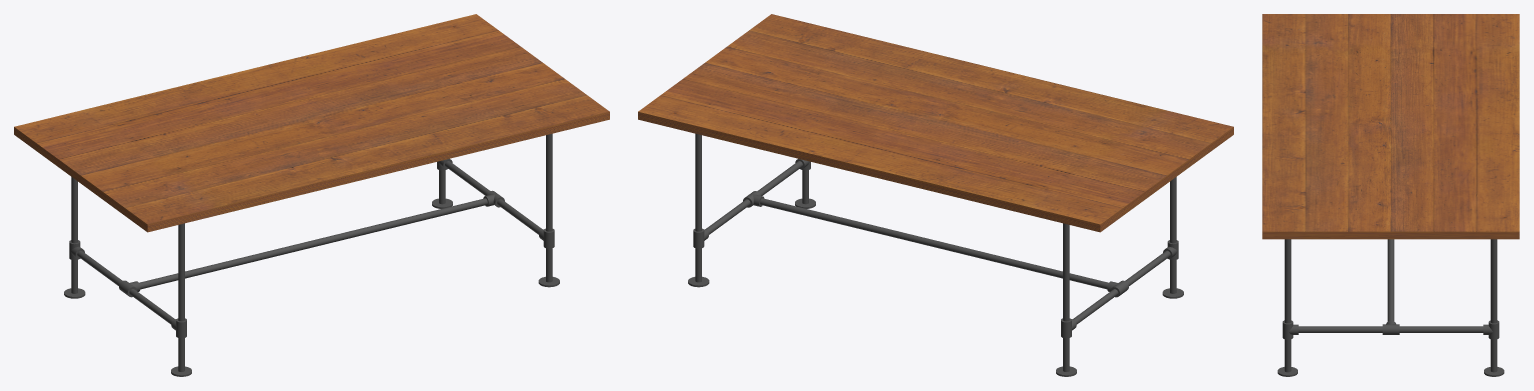
The model's file is table.glb.gltf.
The picture shows the model from 3 angles, left to right: view 1: azimuth 30°, elevation 25°; view 2: azimuth 150°, elevation 25°; view 3: azimuth 270°, elevation 25°; orthographic projection. The views are drawn at different scales.
Visible parts, largest first — view 1: Box001, Cylinder023, Cylinder001, Cylinder010, Cylinder022, Cylinder021, Cylinder020; view 2: Box001, Cylinder023, Cylinder011, Cylinder020, Cylinder022, Cylinder021, Cylinder010; view 3: Box001, Cylinder021, Cylinder001, Cylinder011, Cylinder023.
Boxes of the visible parts, x1=… form: Box001: x1=14, y1=14, x2=609, y2=232; Cylinder023: x1=139, y1=198, x2=487, y2=289; Cylinder001: x1=546, y1=133, x2=552, y2=282; Cylinder010: x1=178, y1=223, x2=184, y2=371; Cylinder022: x1=77, y1=250, x2=174, y2=324; Cylinder021: x1=445, y1=161, x2=542, y2=234; Cylinder020: x1=71, y1=177, x2=77, y2=293; Box001: x1=638, y1=14, x2=1233, y2=232; Cylinder023: x1=760, y1=198, x2=1108, y2=289; Cylinder011: x1=695, y1=133, x2=701, y2=282; Cylinder020: x1=1063, y1=223, x2=1069, y2=371; Cylinder022: x1=1073, y1=250, x2=1170, y2=324; Cylinder021: x1=705, y1=161, x2=802, y2=234; Cylinder010: x1=1170, y1=177, x2=1176, y2=293; Box001: x1=1262, y1=14, x2=1519, y2=239; Cylinder021: x1=1298, y1=326, x2=1483, y2=332; Cylinder001: x1=1284, y1=239, x2=1291, y2=372; Cylinder011: x1=1490, y1=239, x2=1497, y2=372; Cylinder023: x1=1387, y1=239, x2=1394, y2=321.
Bounding box in the file's own units: 1.5 × 0.5247 × 0.75.
Materials: 2 (2 with a texture image).
